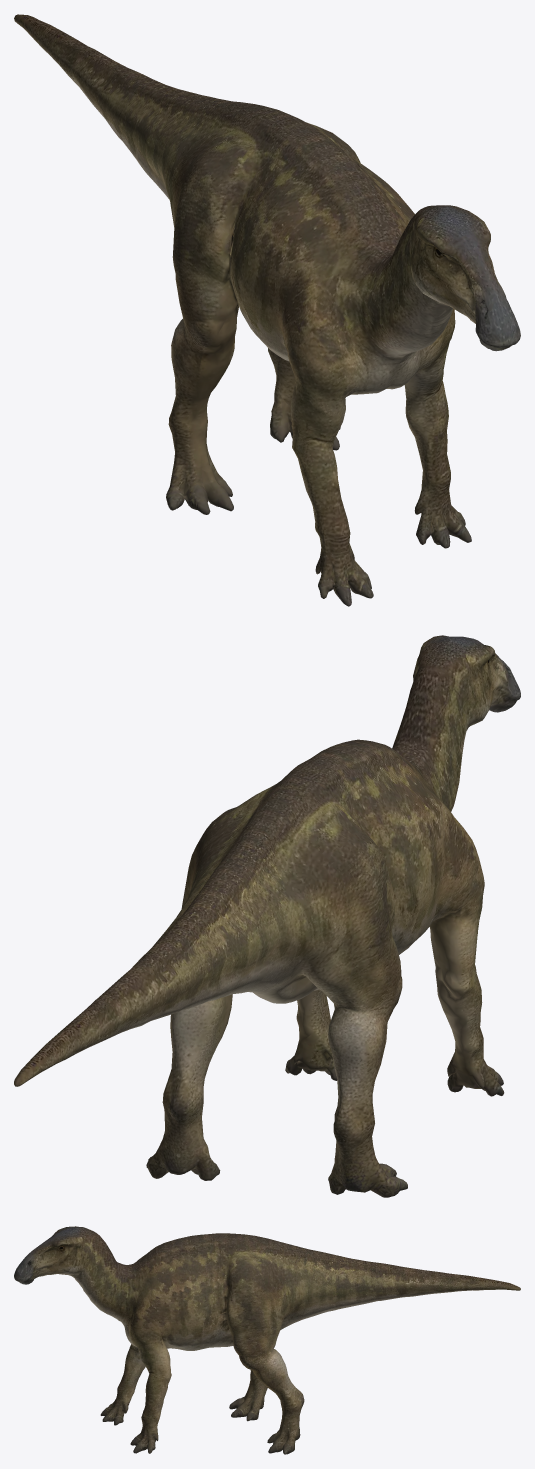
The model's file is edmontosaurus.glb.
The picture shows the model from 3 angles, top to bottom: view 1: azimuth 30°, elevation 25°; view 2: azimuth 150°, elevation 25°; view 3: azimuth 270°, elevation 25°; orthographic projection. The views are drawn at different scales.
Visible parts, largest first — view 1: dino; view 2: dino; view 3: dino.
Boxes of the visible parts, left/top/right/bottom form: dino: left=14, top=14, right=520, bottom=606; dino: left=14, top=635, right=520, bottom=1197; dino: left=14, top=1226, right=520, bottom=1454.
Bounding box in the file's own units: 3.01 × 5.42 × 12.
Materials: 1 (1 with a texture image).
